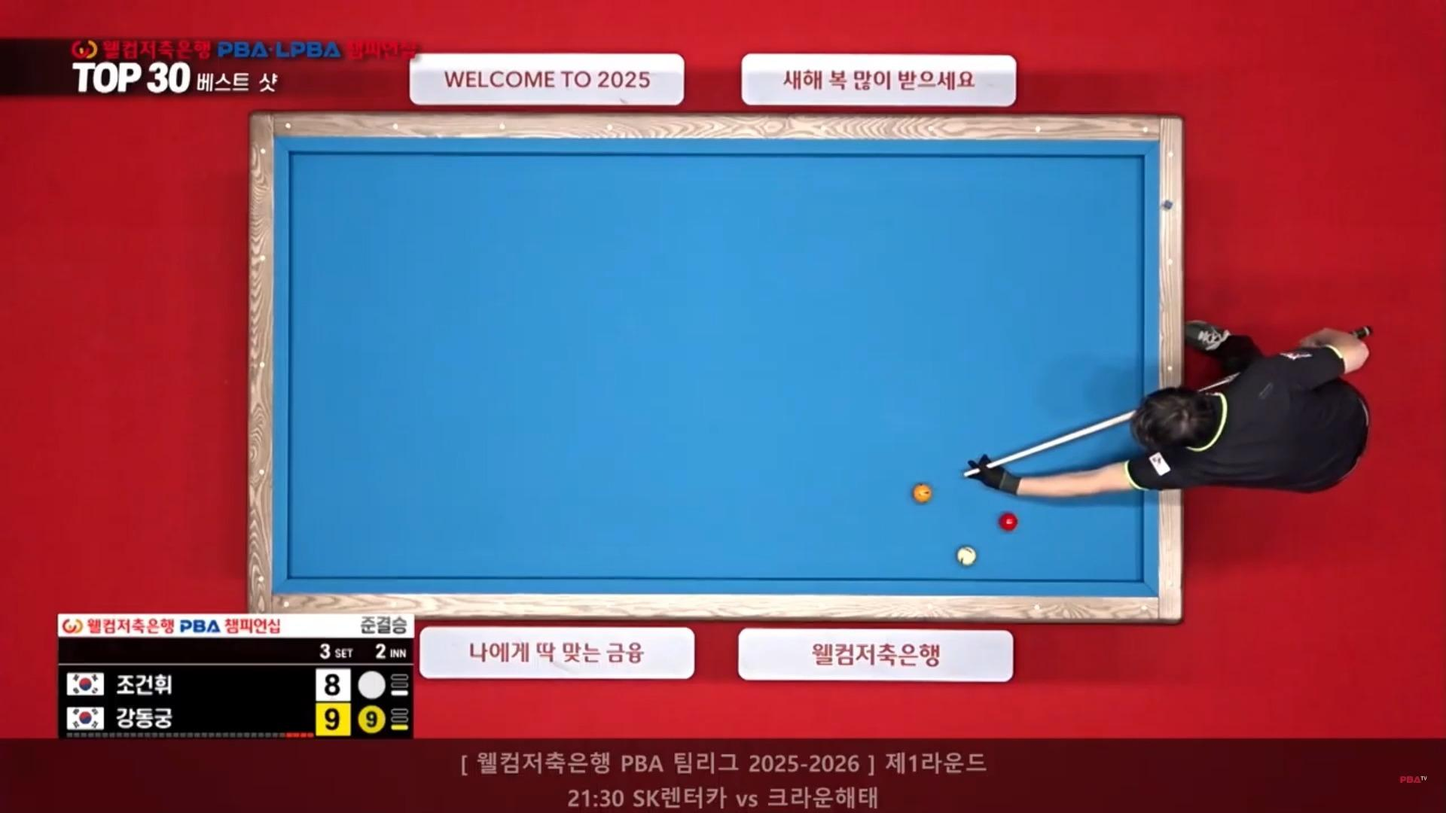Red: (1001, 515, 1024, 533)
White: (955, 546, 979, 565)
Yellow: (913, 484, 938, 503)
